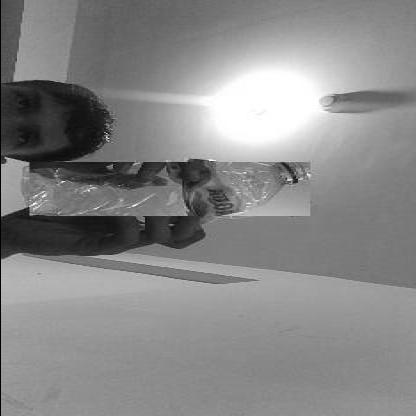plastic_bottles: (27, 162, 309, 216)
